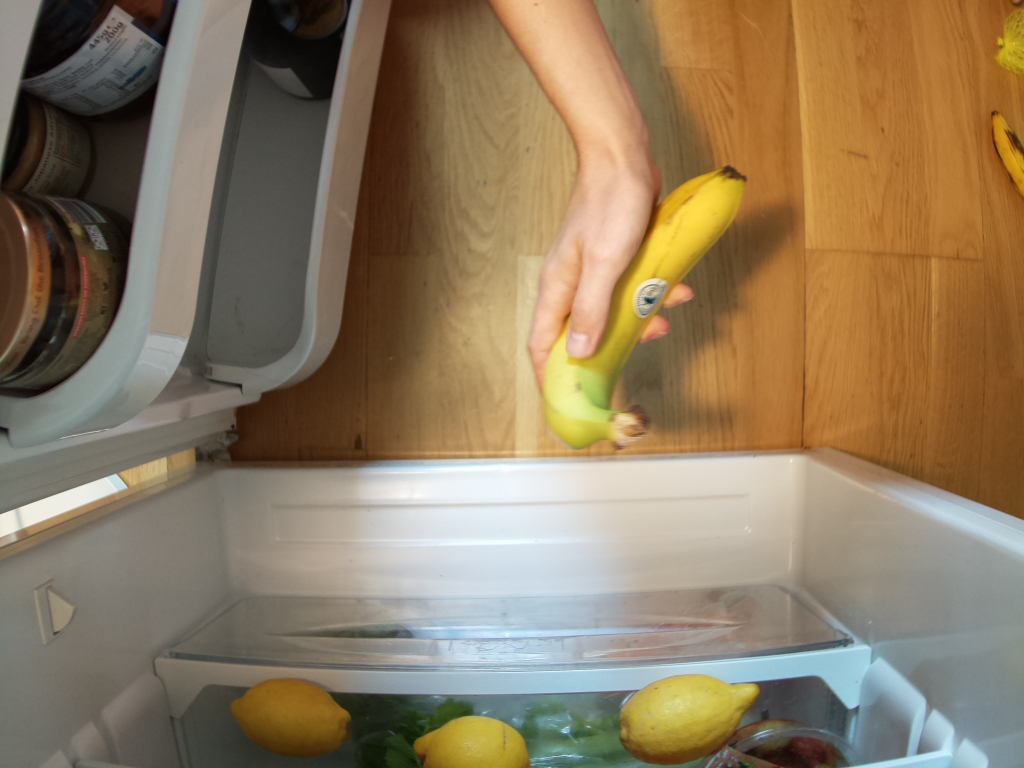banana-unripe: (538, 166, 749, 447)
